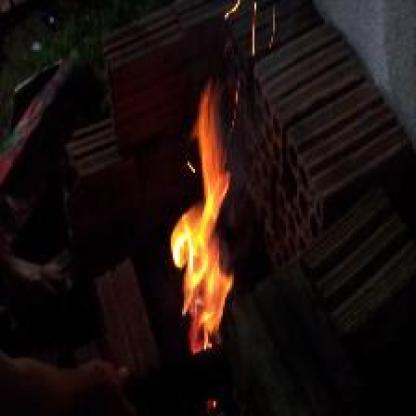fire: (164, 97, 239, 349)
